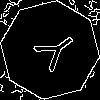Y: (25, 25, 82, 79)
